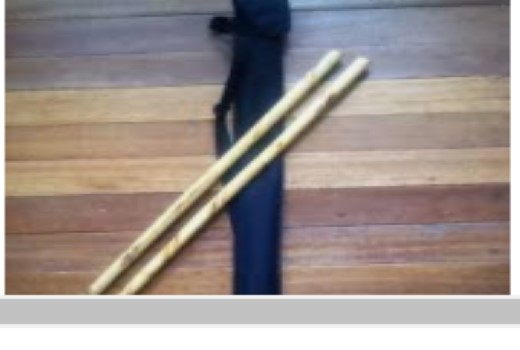baston_e: (139, 67, 352, 291), (113, 60, 318, 286)
baston_v: (112, 285, 140, 310), (78, 276, 101, 305), (352, 44, 373, 75), (322, 43, 344, 65)
